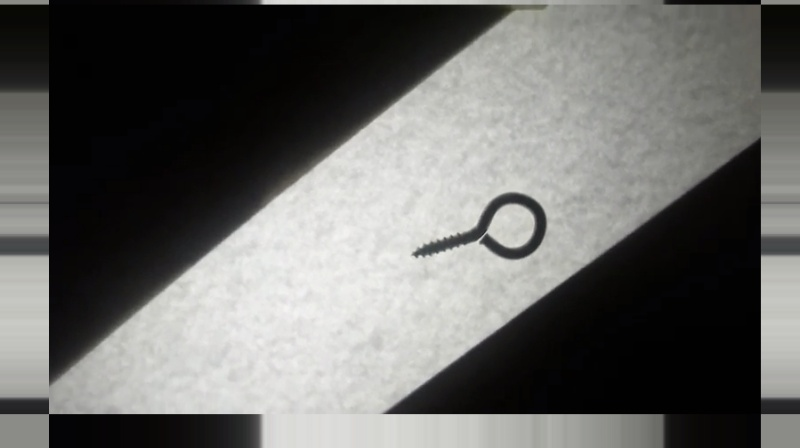O001: (409, 189, 550, 262)
